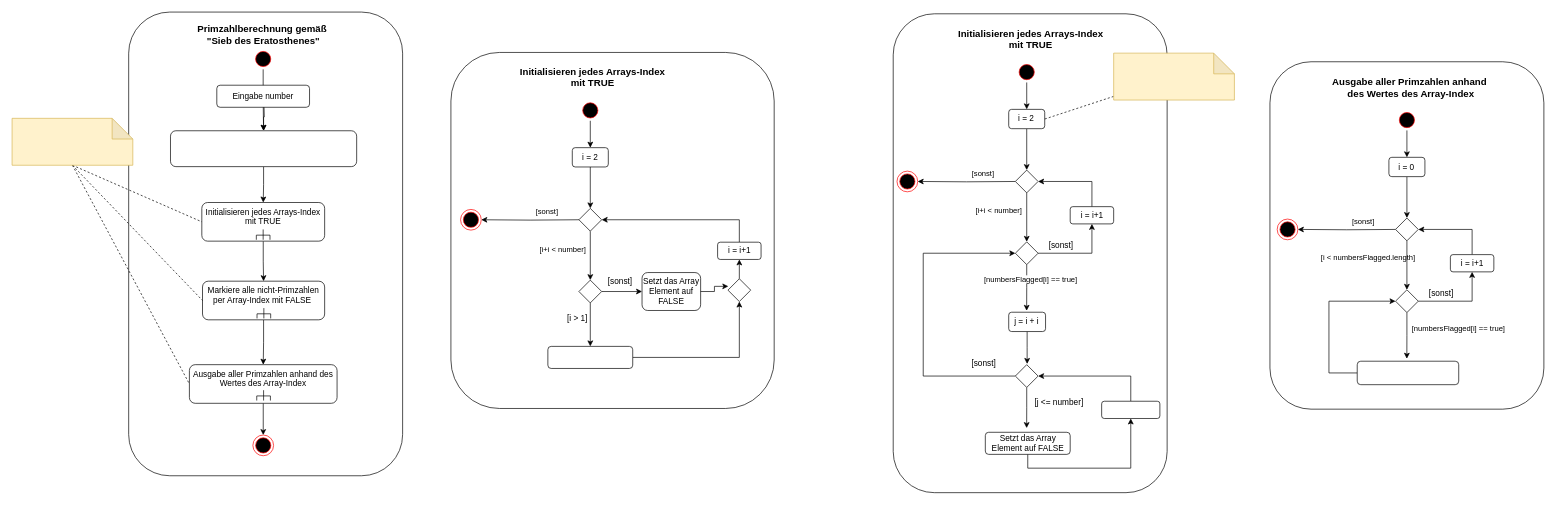
This 1556x505 diagram has some shape labels left out. Here are the shapes that lost their labels. From the top down, the centre of each, then its label:
At point 1173,76: "mit 2 beginnen um die ersten 3 Zahlen, 0,1,2 zu überspringen".
At point 72,141: "separates Aktivitätsdiagramm".
At point 263,148: "Erstellen des Nummern-Arrays numbersFlagged = new boolean[number + 1]".
At point 590,357: "Setzt das Array Element auf TRUE".
At point 1408,373: "Ausgabe des Array-Index als Primzahl".
At point 1130,409: "j = j + i".
